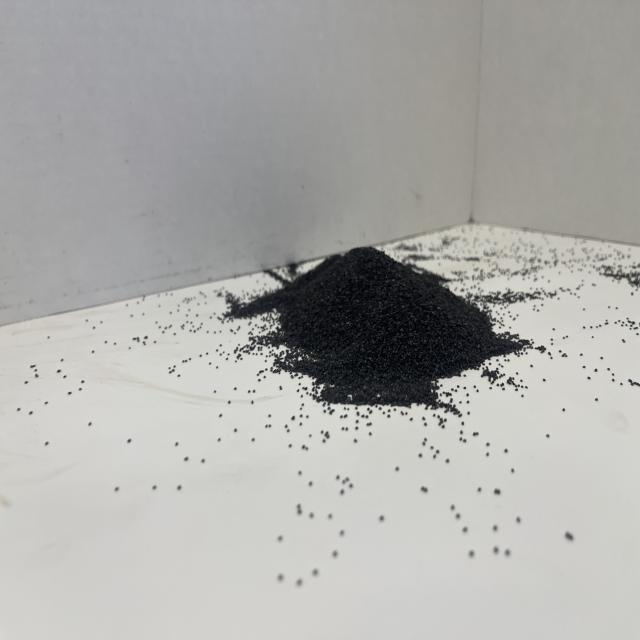Poppy Seeds: (236, 219, 556, 462)
